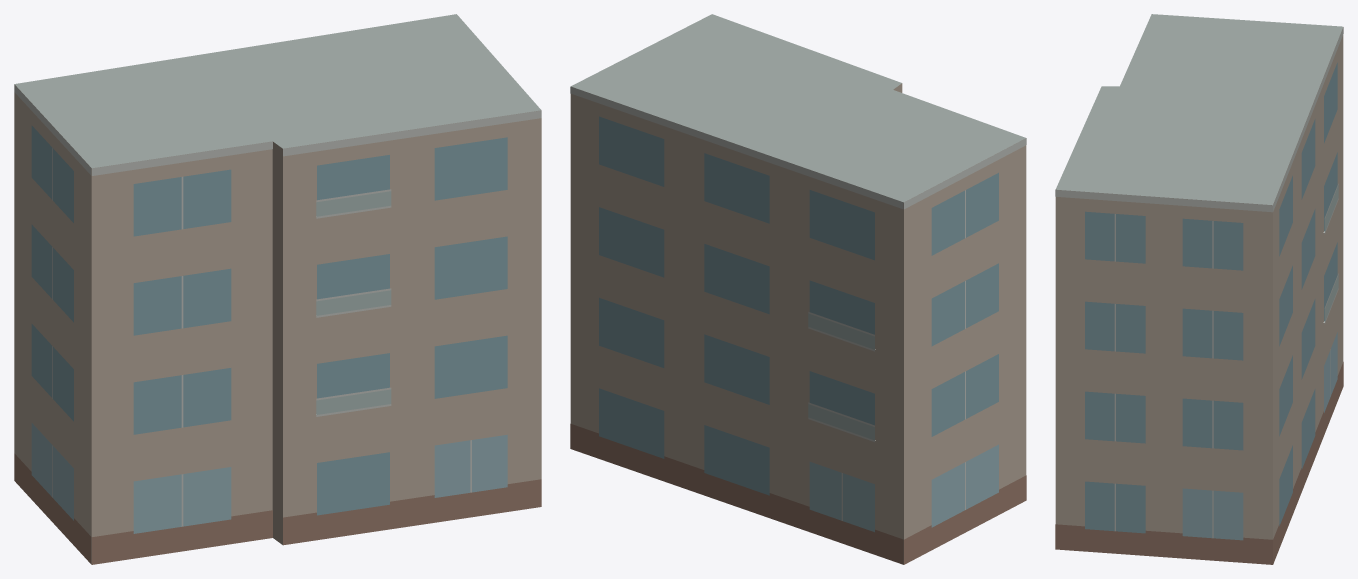
File: survey-upis-32484739.glb
3 views of the same model, side by side, from view 1: azimuth 30°, elevation 25°; view 2: azimuth 150°, elevation 25°; view 3: azimuth 270°, elevation 25° (orthographic). The views are drawn at different scales.
Parts seen in each view (by area): view 1: survey-upis-32484739.tmp; view 2: survey-upis-32484739.tmp; view 3: survey-upis-32484739.tmp.
Part boxes in pixels (x1,y1,x2,y2): survey-upis-32484739.tmp: (14, 14, 541, 564); survey-upis-32484739.tmp: (570, 14, 1026, 564); survey-upis-32484739.tmp: (1055, 14, 1343, 564).
Bounding box in the file's own units: 14.14 × 12.4 × 9.01.
